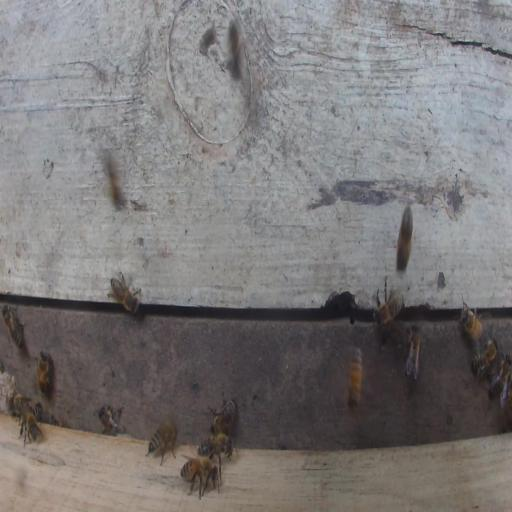bee: (180, 456, 222, 499), (372, 277, 404, 327), (146, 421, 178, 466), (109, 271, 142, 314), (459, 297, 485, 345), (396, 204, 413, 273), (104, 150, 124, 207), (471, 337, 498, 378), (210, 396, 237, 435), (1, 304, 24, 348), (488, 357, 511, 400), (405, 323, 421, 381), (97, 404, 125, 436), (348, 345, 362, 408), (19, 409, 43, 445), (198, 434, 233, 457), (37, 349, 53, 396), (229, 20, 242, 77), (13, 393, 32, 414), (33, 401, 43, 421)
